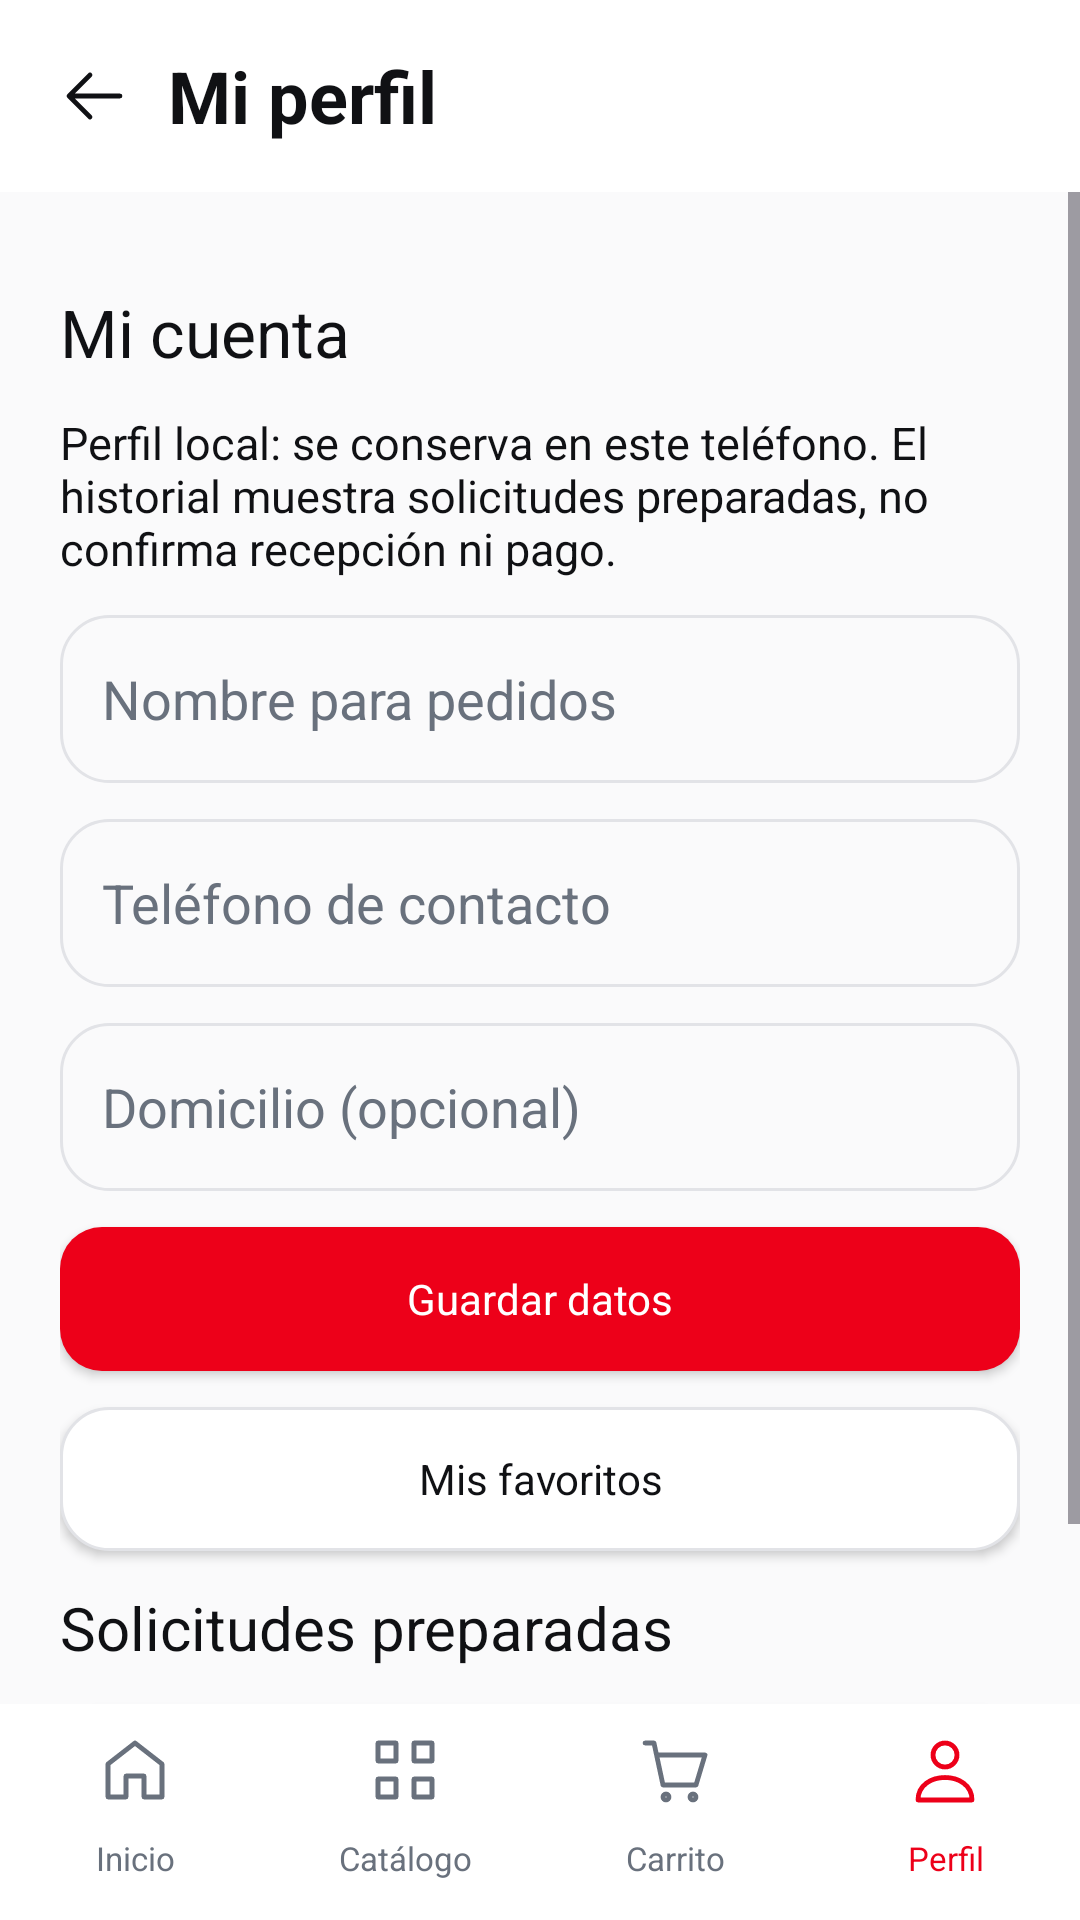

Point at icon controls on the screen. Image size 1080*1920, points as (x,y).
Volver: (94,96)
